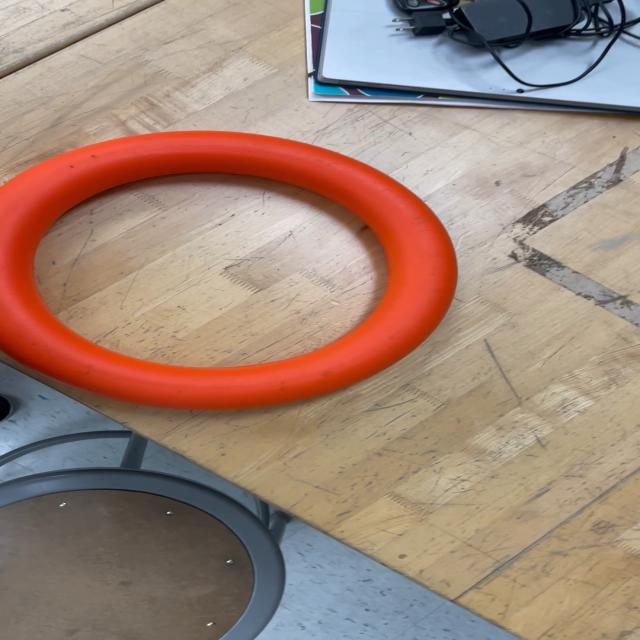note: (0, 126, 457, 401)
